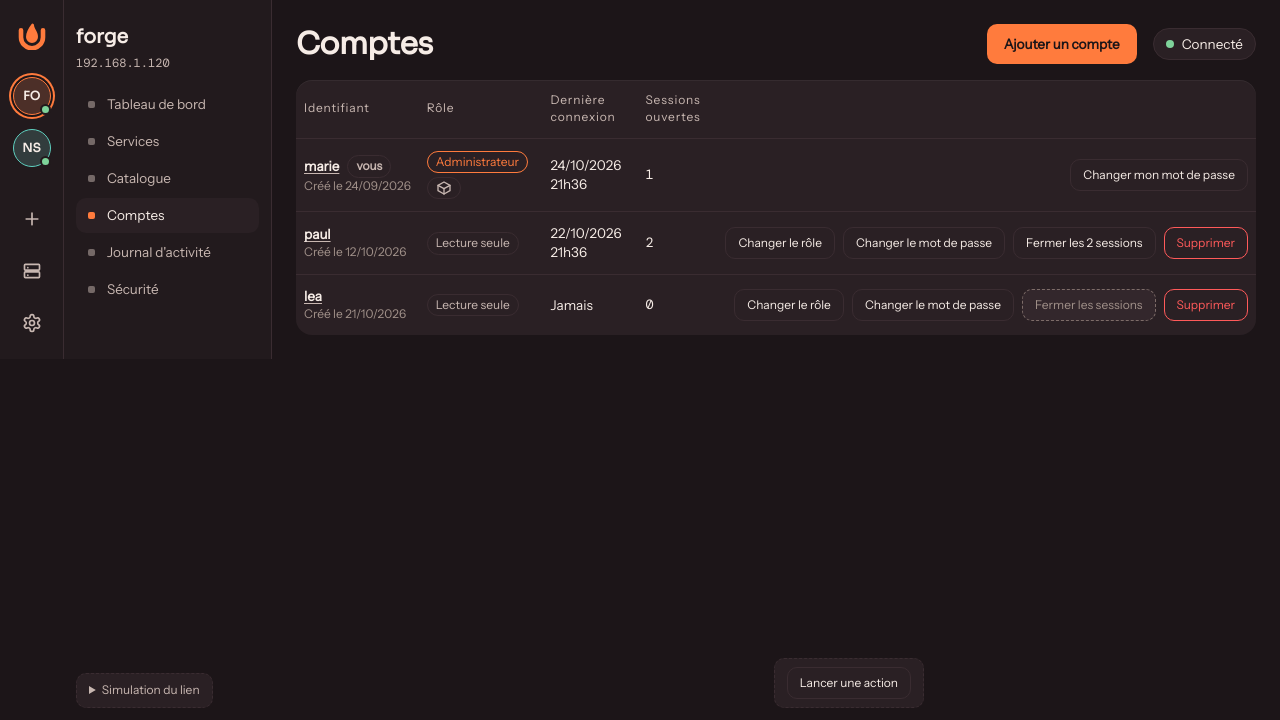
Test: le détail d'un compte › « Copier la commande » copie exactement le texte affiché, puis dit « Copiée »
Click the button with class "table__open" showing "paul" at {"x": 317, "y": 235}, box 304,225 -> 331,244
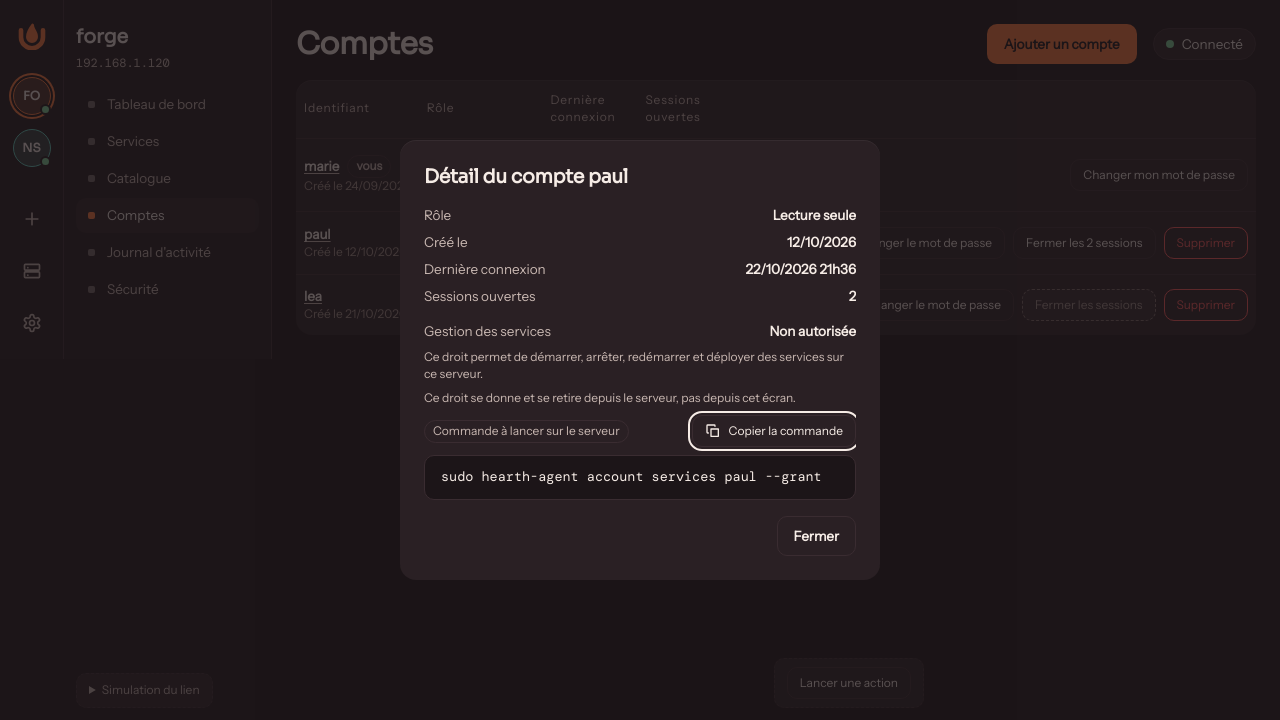
Click the button "Copier la commande" at {"x": 774, "y": 431}, box 692,415 -> 856,447
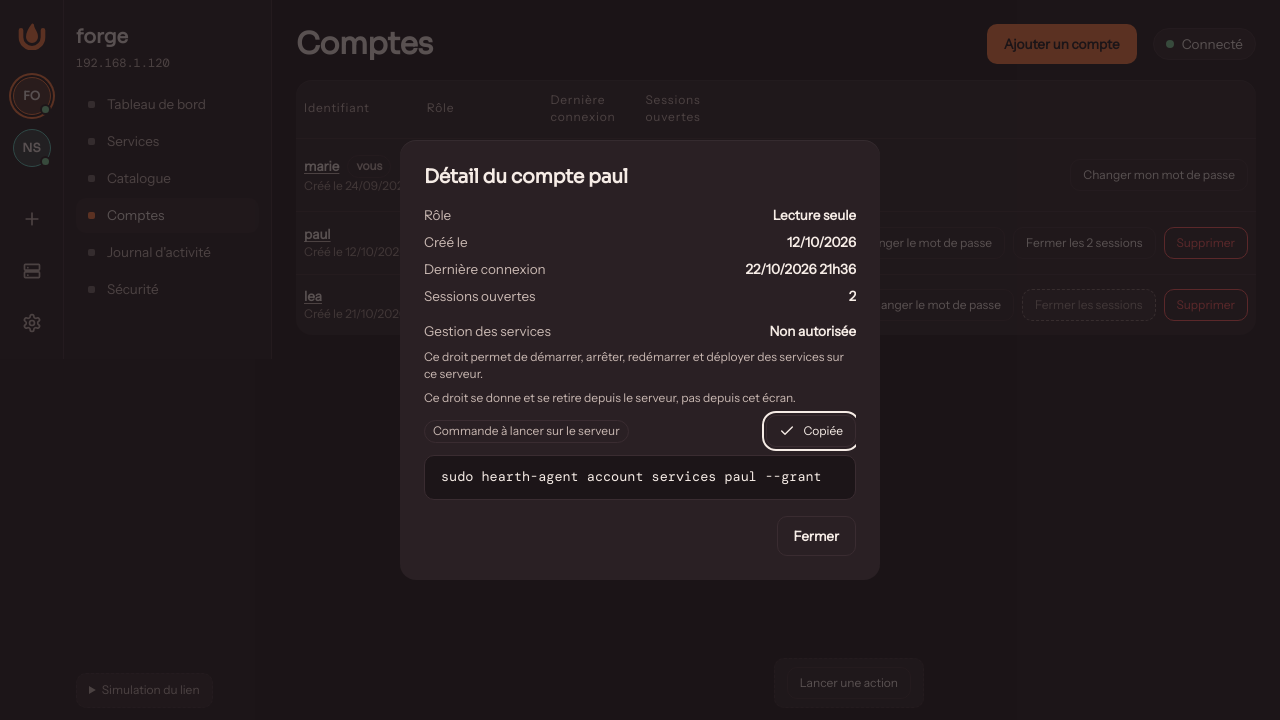
Check: the button "Copiée" is shown, box 766,415 -> 856,447
